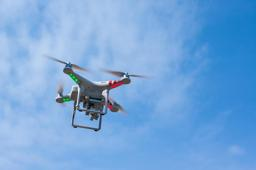UAV: (55, 62, 132, 133)
